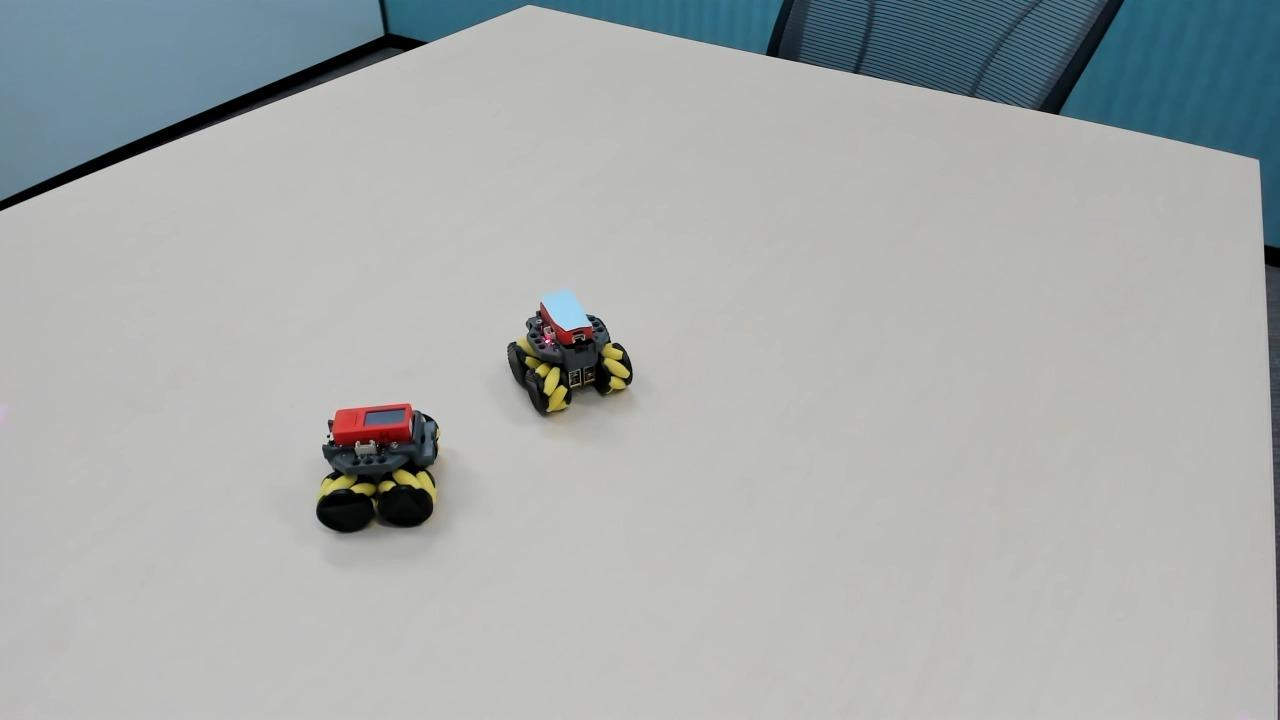B-Robot: (493, 285, 639, 431)
R-Robot: (308, 390, 455, 542)
